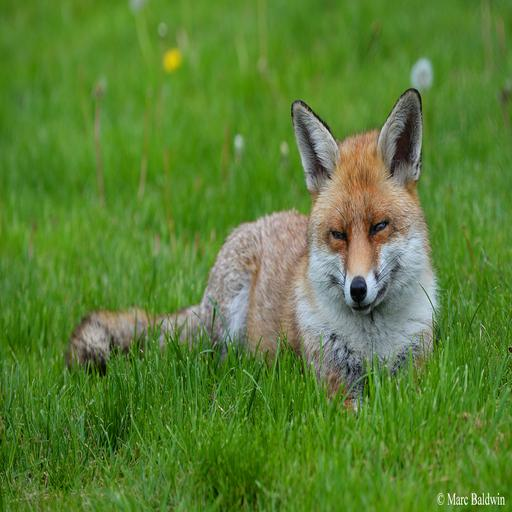Fox: (66, 80, 450, 428)
